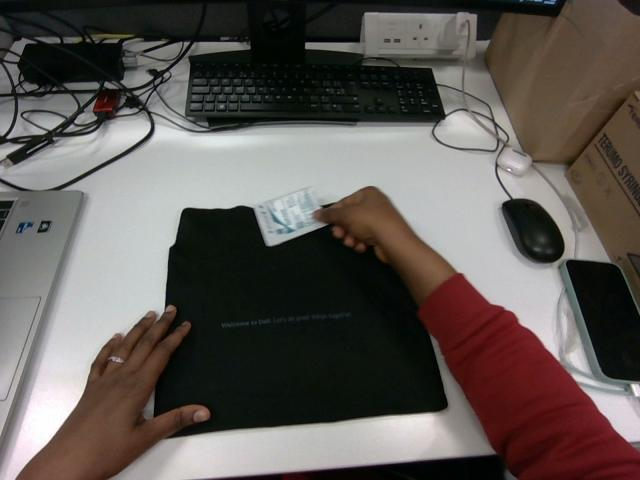gauze: (254, 187, 322, 246)
